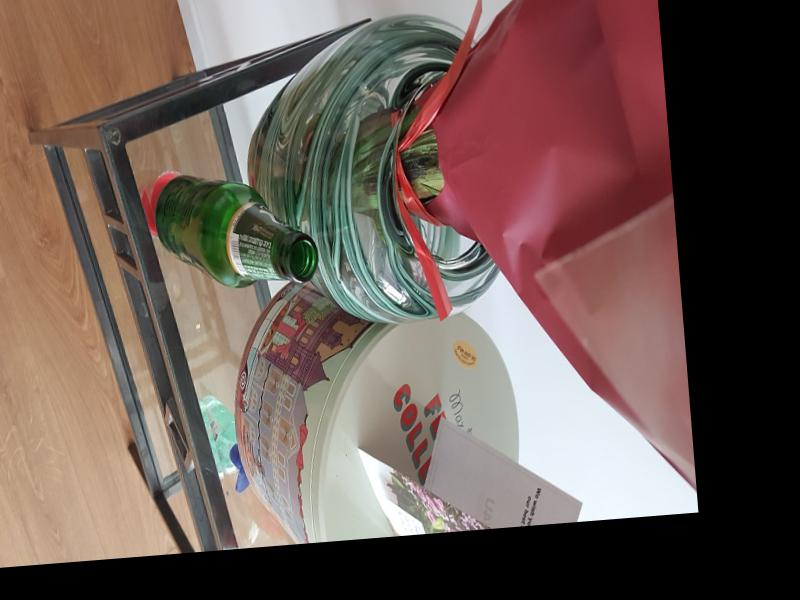Beer: (152, 164, 319, 295)
